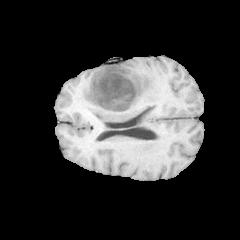glioma: (76, 60, 162, 125)
